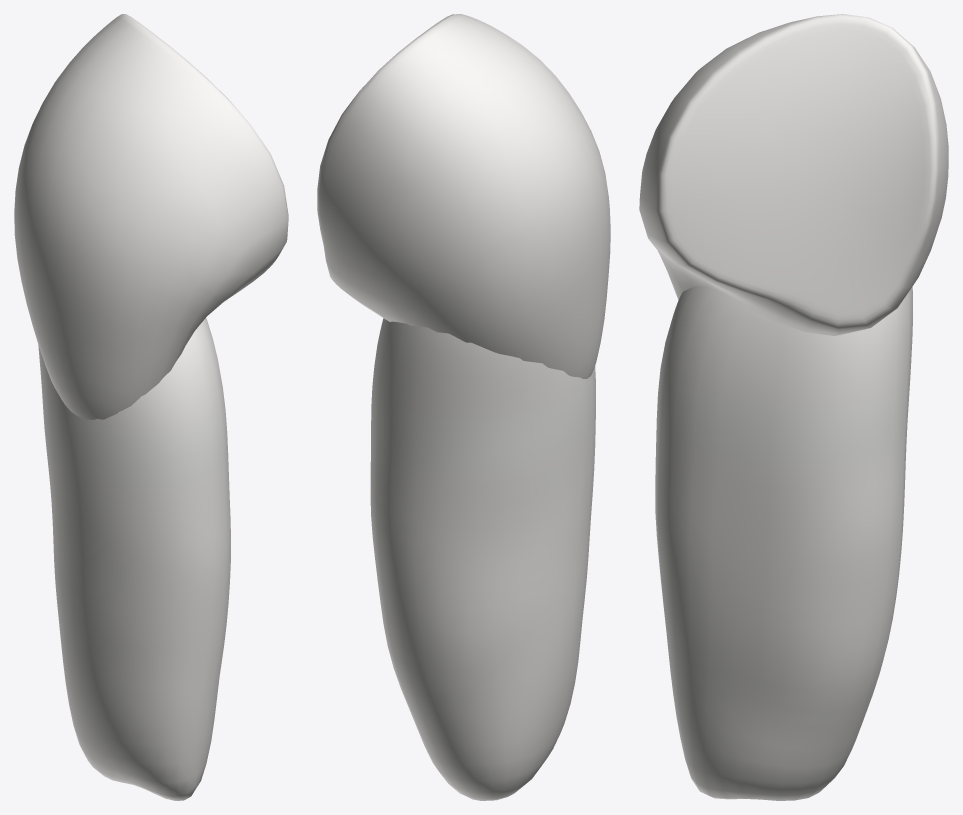
File: armupright.fbx
3 renders of one model, left to right at view 1: azimuth 30°, elevation 25°; view 2: azimuth 150°, elevation 25°; view 3: azimuth 270°, elevation 25°, orthographic. The views are drawn at different scales.
Parts seen in each view (by area): view 1: armupright; view 2: armupright; view 3: armupright.
Part boxes in pixels (box(x1,y1,x2,y2)): armupright: box(14, 14, 288, 800); armupright: box(317, 14, 610, 800); armupright: box(639, 14, 948, 800).
Bounding box in the file's own units: 6.42 × 22.02 × 7.78.
